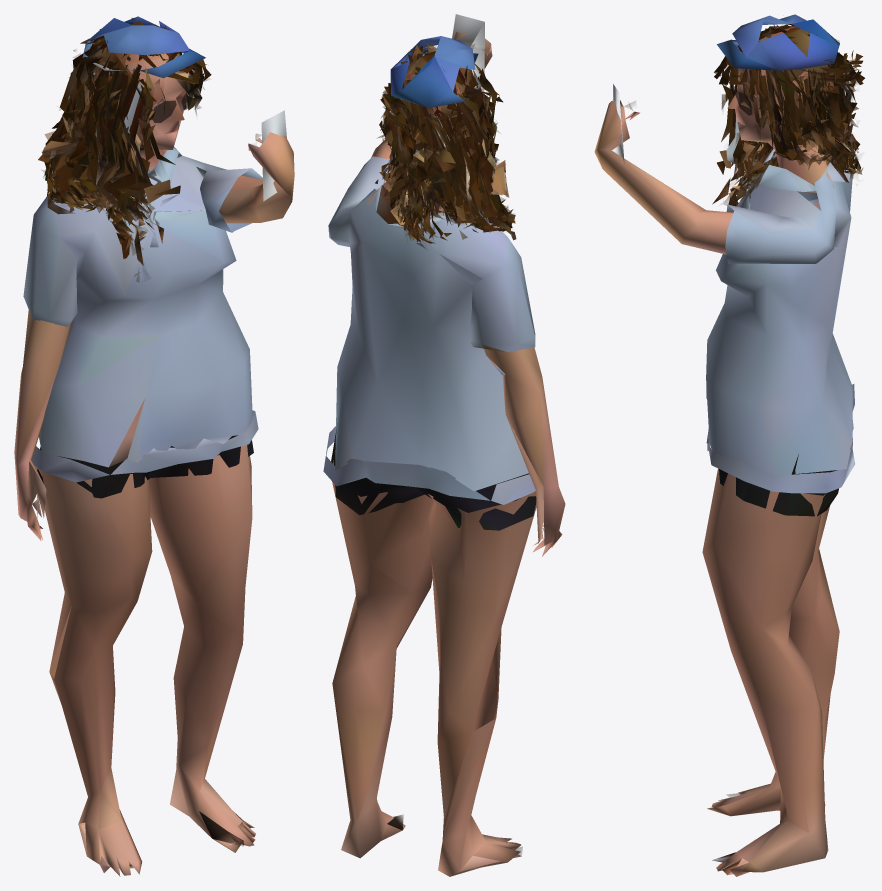
3 renders of one model, left to right at view 1: azimuth 30°, elevation 25°; view 2: azimuth 150°, elevation 25°; view 3: azimuth 270°, elevation 25°, orthographic.
Parts seen in each view (by area): view 1: p03497; view 2: p03497; view 3: p03497.
Boxes of the visible parts, bbox=[...] form: p03497: bbox=[14, 16, 294, 876]; p03497: bbox=[323, 14, 565, 876]; p03497: bbox=[594, 14, 864, 876].
Size of the model in its own units: 0.4452 by 1.54 by 0.4652.
Materials: 1 (1 with a texture image).
